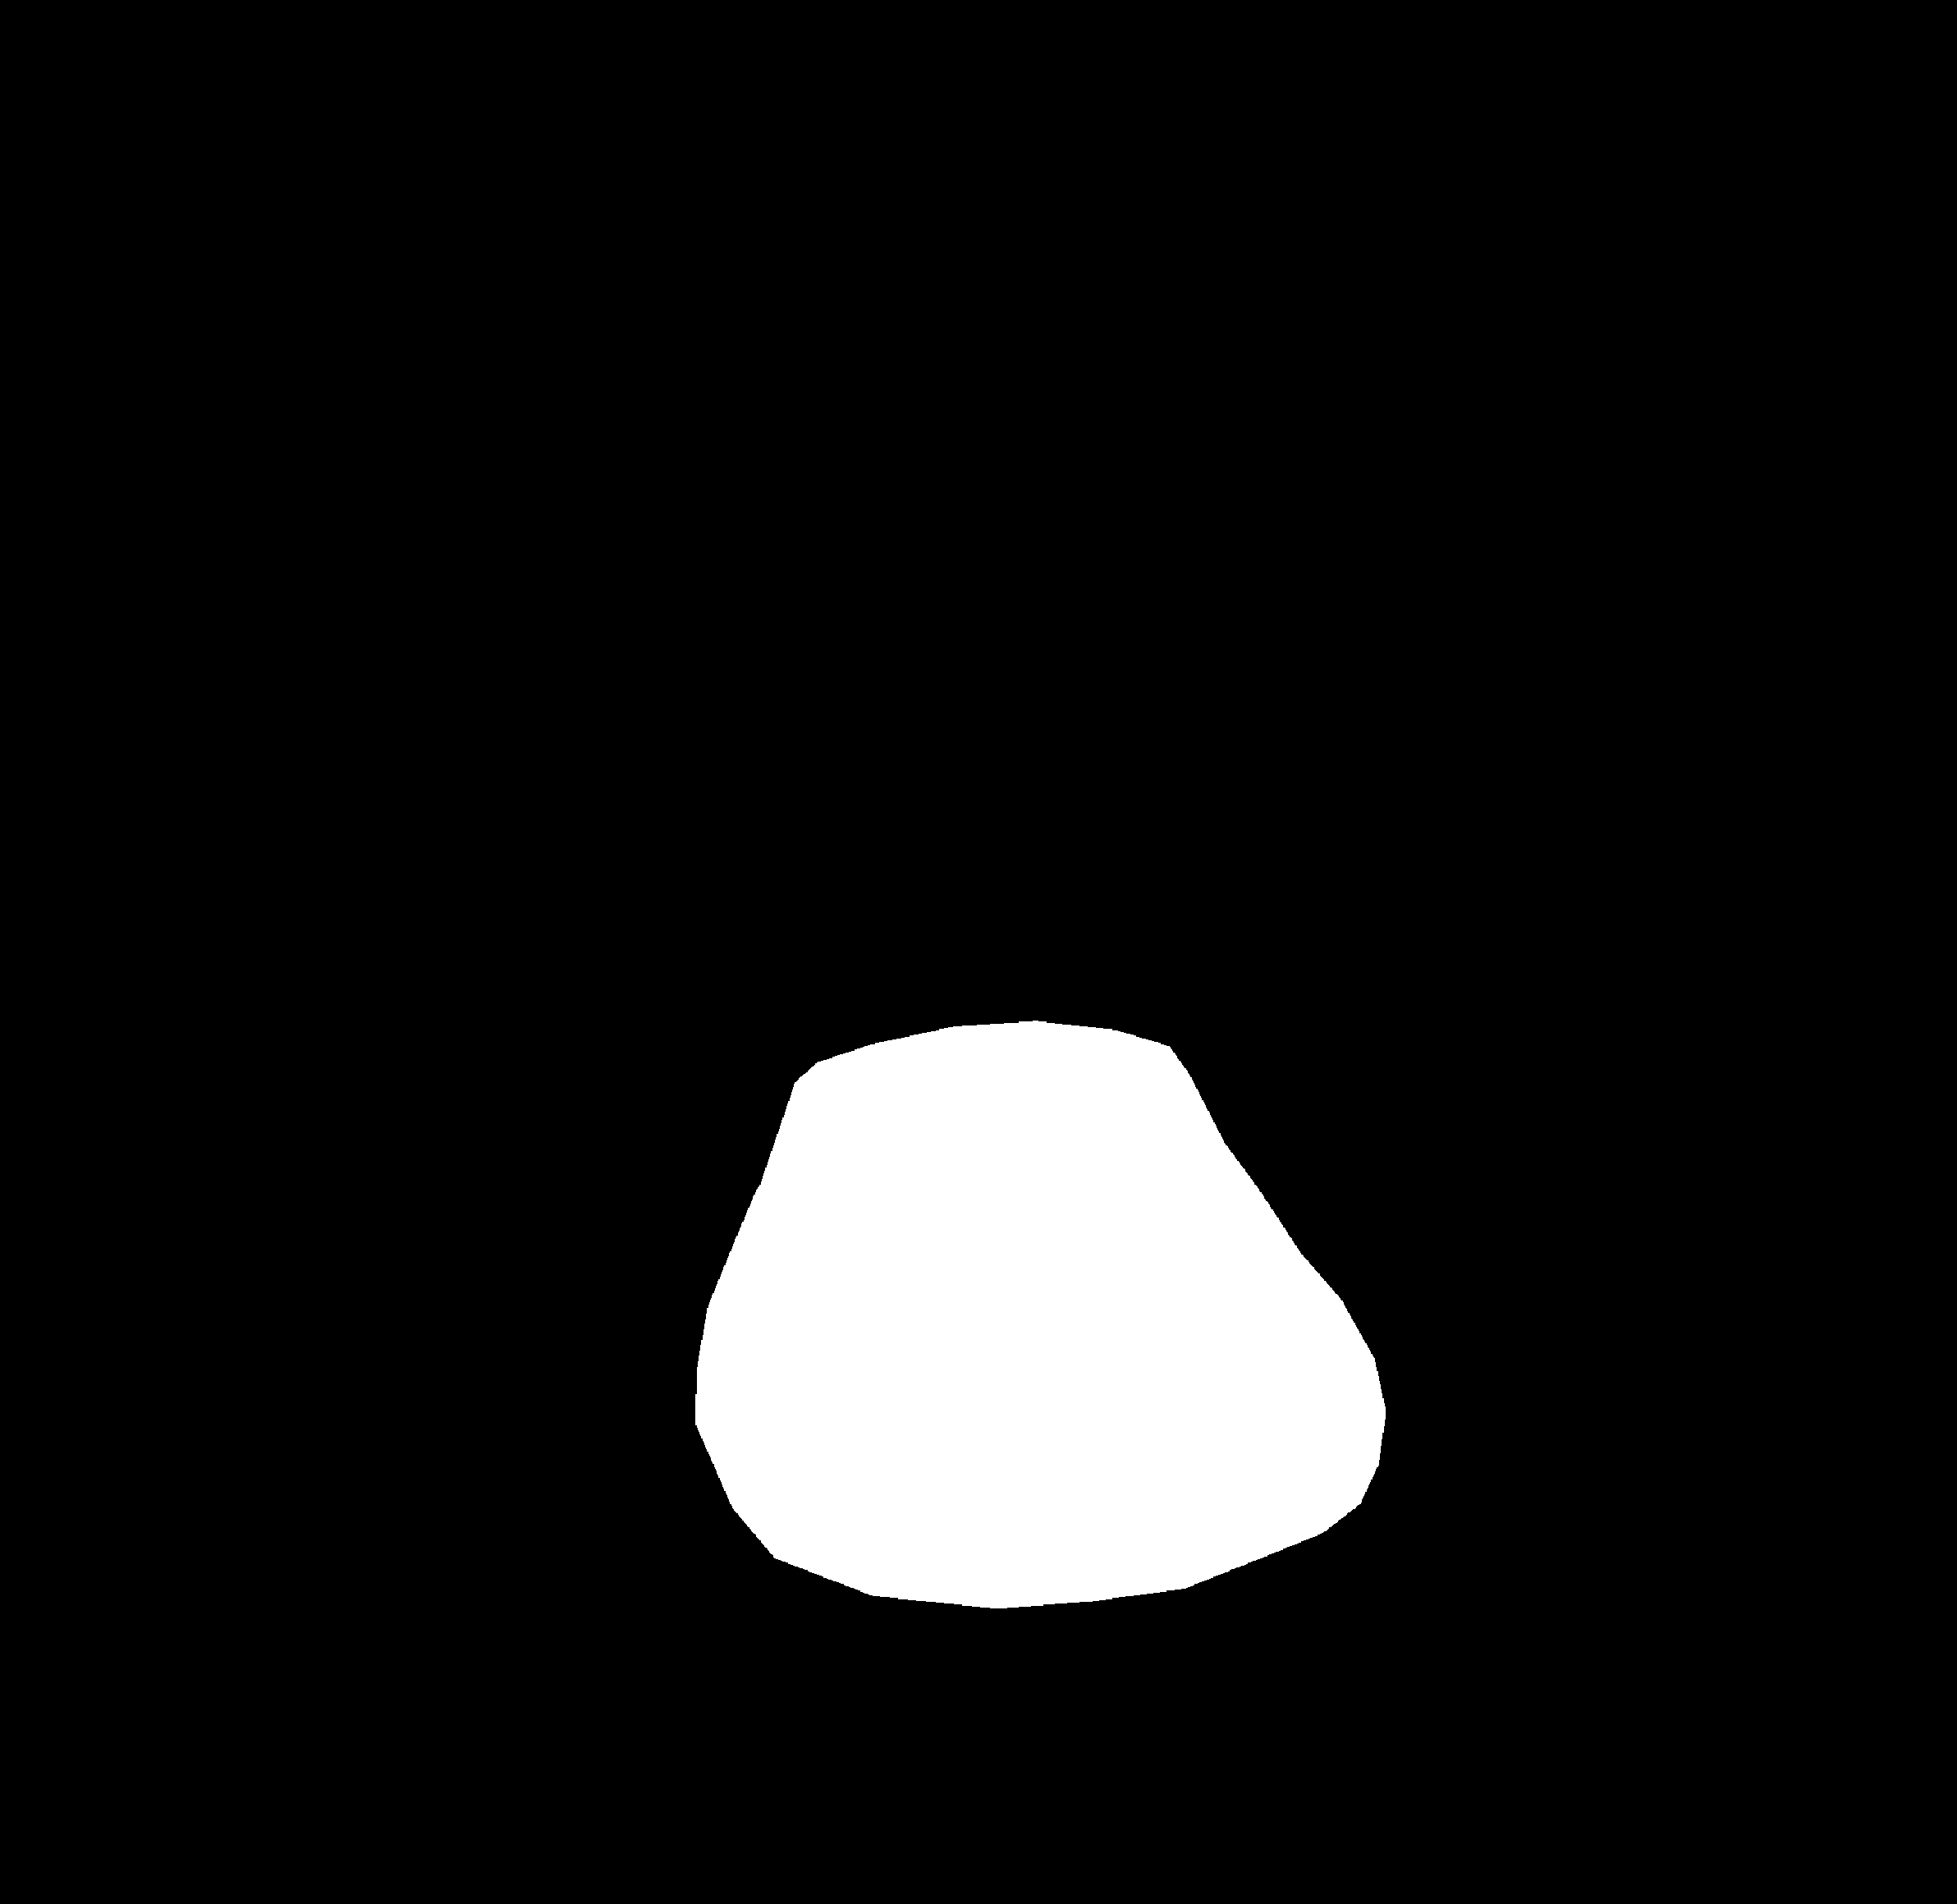heart: (694, 1143, 1389, 1586)
left_lung: (302, 257, 884, 1486)
right_lung: (1068, 248, 1683, 1547)
